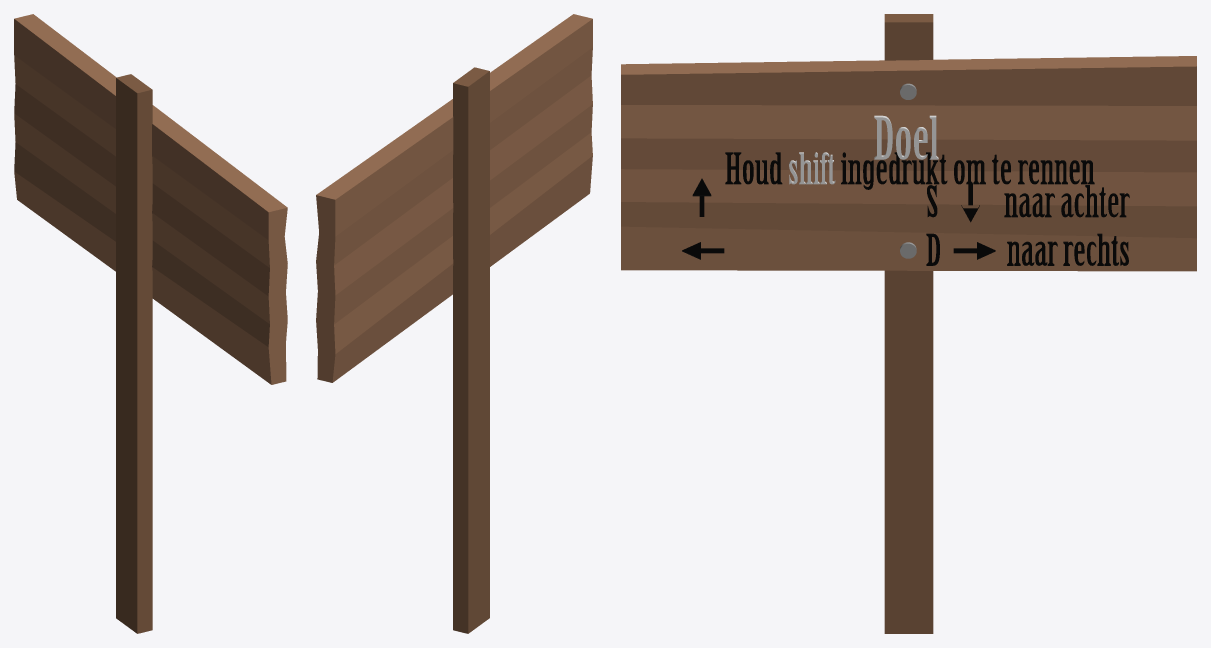
Rendered from Bord_shift_rennen.fbx.
3 renders of one model, left to right at view 1: azimuth 30°, elevation 25°; view 2: azimuth 150°, elevation 25°; view 3: azimuth 270°, elevation 25°, orthographic. The views are drawn at different scales.
Visible parts, largest first — view 1: Cube, Cube.001; view 2: Cube, Cube.001; view 3: Cube, Cube.001, Subtexr, Subtexr.001, MAIN TEXT.
Part boxes in pixels (<box>): Cube: <box>14,14,287,384</box>; Cube.001: <box>116,74,152,633</box>; Cube: <box>316,14,592,382</box>; Cube.001: <box>453,67,489,633</box>; Cube: <box>621,56,1196,271</box>; Cube.001: <box>884,14,933,633</box>; Subtexr: <box>725,152,1094,189</box>; Subtexr.001: <box>926,185,1129,265</box>; MAIN TEXT: <box>874,115,938,159</box>.
Size of the model in its own units: 33.51 by 466 by 398.
